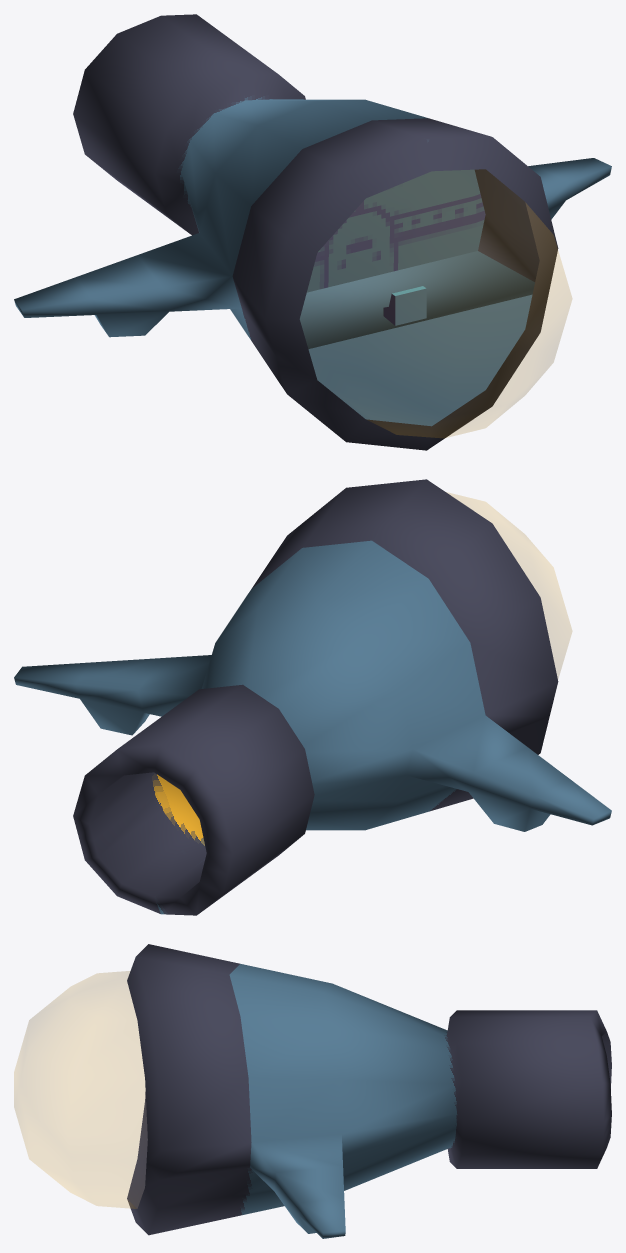
File: ship.glb
3 renders of one model, top to bottom at view 1: azimuth 30°, elevation 25°; view 2: azimuth 150°, elevation 25°; view 3: azimuth 270°, elevation 25°, orthographic. The views are drawn at different scales.
Visible parts, largest first — view 1: Sphere; view 2: Sphere; view 3: Sphere.
Boxes of the visible parts, <box> form: Sphere: <box>14,14,611,450</box>; Sphere: <box>14,479,611,915</box>; Sphere: <box>14,944,611,1238</box>.
Bounding box in the file's own units: 11.68 × 5.89 × 12.
2 materials, 2 textured.
